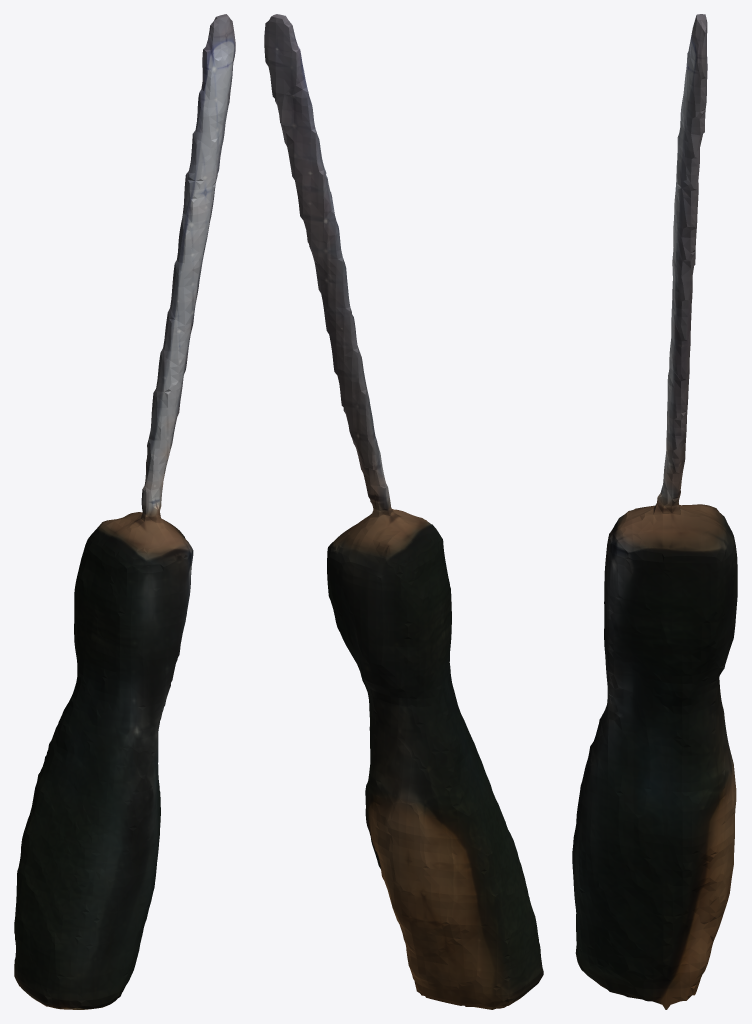
The model's file is 1_rgba.obj.
The picture shows the model from 3 angles, left to right: view 1: azimuth 30°, elevation 25°; view 2: azimuth 150°, elevation 25°; view 3: azimuth 270°, elevation 25°; orthographic projection. The views are drawn at different scales.
Bounding box in the file's own units: 0.5185 × 1.99 × 0.28.
Materials: 1 (1 with a texture image).
